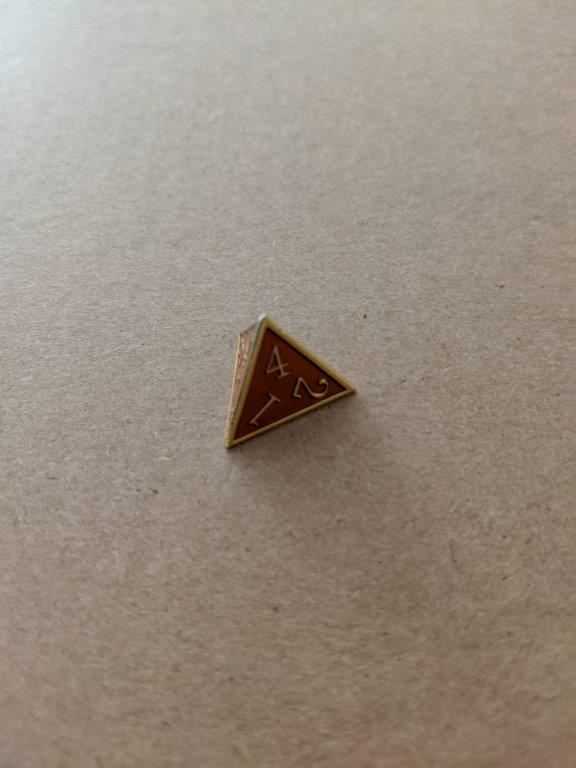d4-4: (223, 316, 355, 450)
